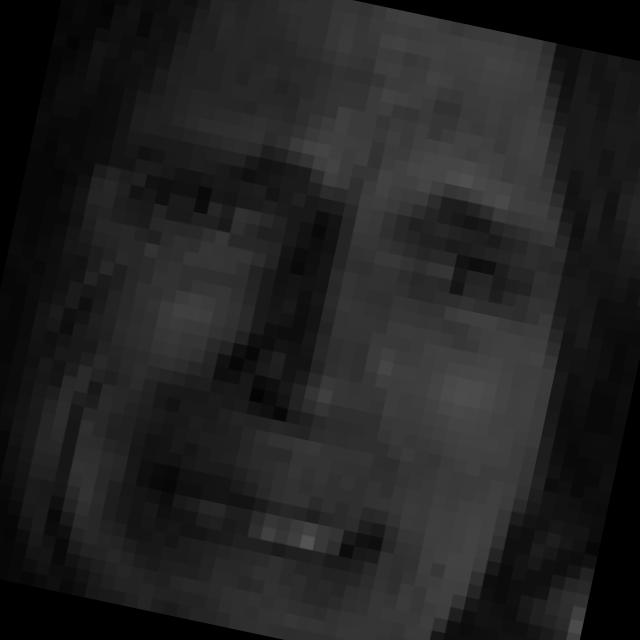sad: (32, 97, 559, 640)
